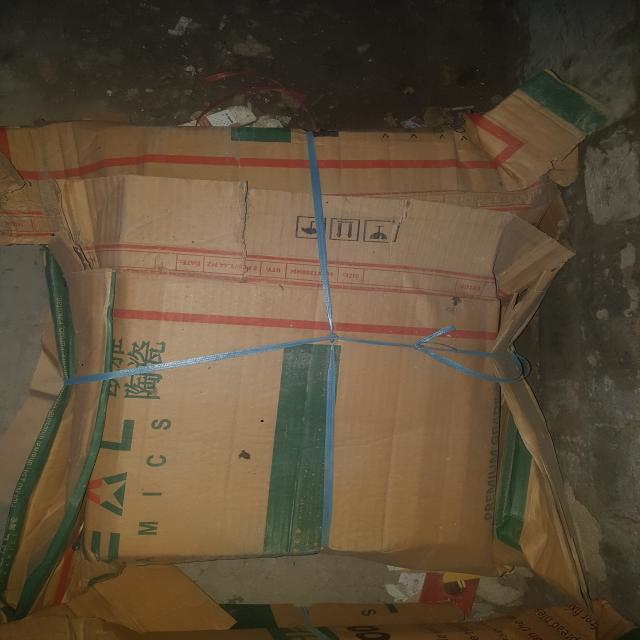electronic: (41, 175, 574, 578), (65, 563, 237, 633)
